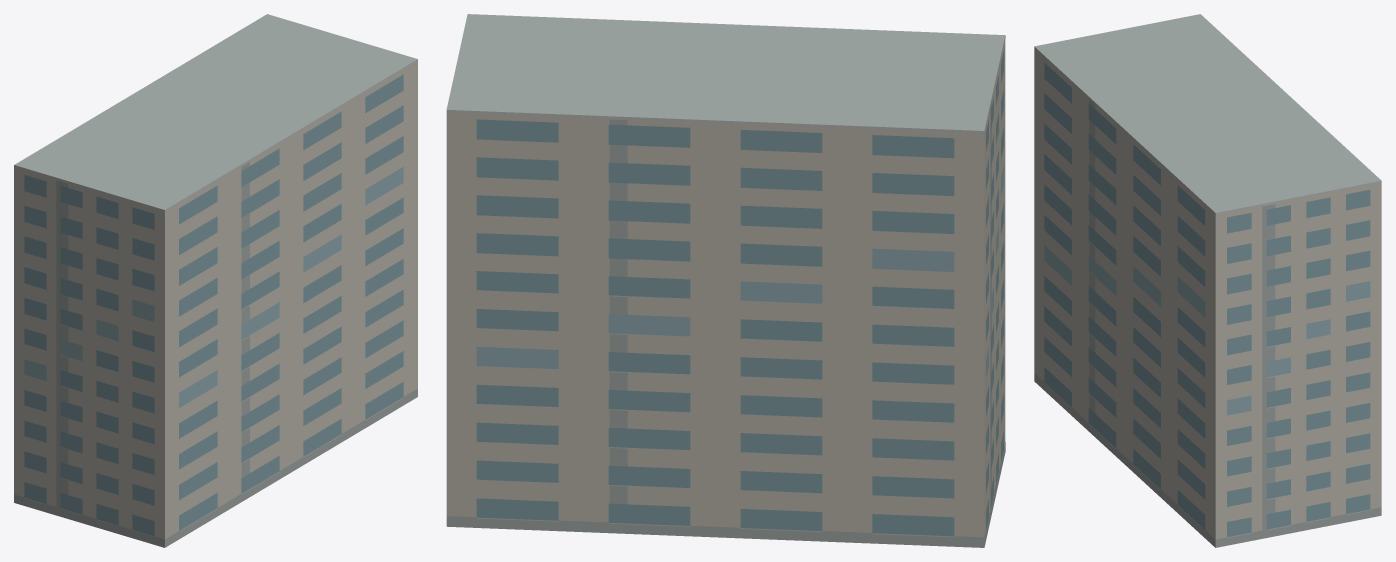
File: residential-6141db17-ed6d-4de6-b4a0-d824a9a45bcc.glb
The picture shows the model from 3 angles, left to right: view 1: azimuth 30°, elevation 25°; view 2: azimuth 150°, elevation 25°; view 3: azimuth 270°, elevation 25°; orthographic projection. The views are drawn at different scales.
Visible parts, largest first — view 1: residential-6141db17-ed6d-4de6-b4a0-d824a9a45bcc.tmp; view 2: residential-6141db17-ed6d-4de6-b4a0-d824a9a45bcc.tmp; view 3: residential-6141db17-ed6d-4de6-b4a0-d824a9a45bcc.tmp.
Boxes of the visible parts, x1,y1,x2,y2 form: residential-6141db17-ed6d-4de6-b4a0-d824a9a45bcc.tmp: (14,14,417,547); residential-6141db17-ed6d-4de6-b4a0-d824a9a45bcc.tmp: (446,14,1005,547); residential-6141db17-ed6d-4de6-b4a0-d824a9a45bcc.tmp: (1034,14,1381,547).
Size of the model in its own units: 39.5 by 31 by 29.15.
